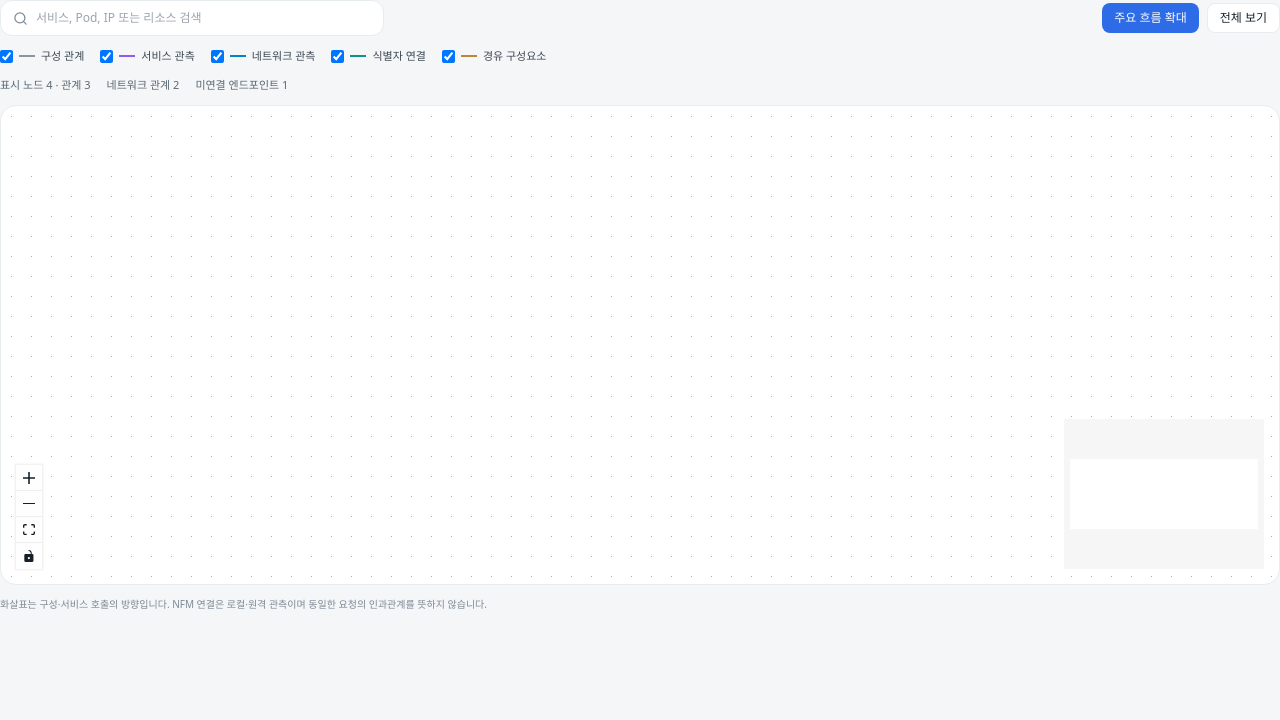
it: E2eGraphCanvas › does not render invalid metrics as measurements: NaN
In the search field: x=204, y=18 [36,9,371,27], type "checkout-flow"
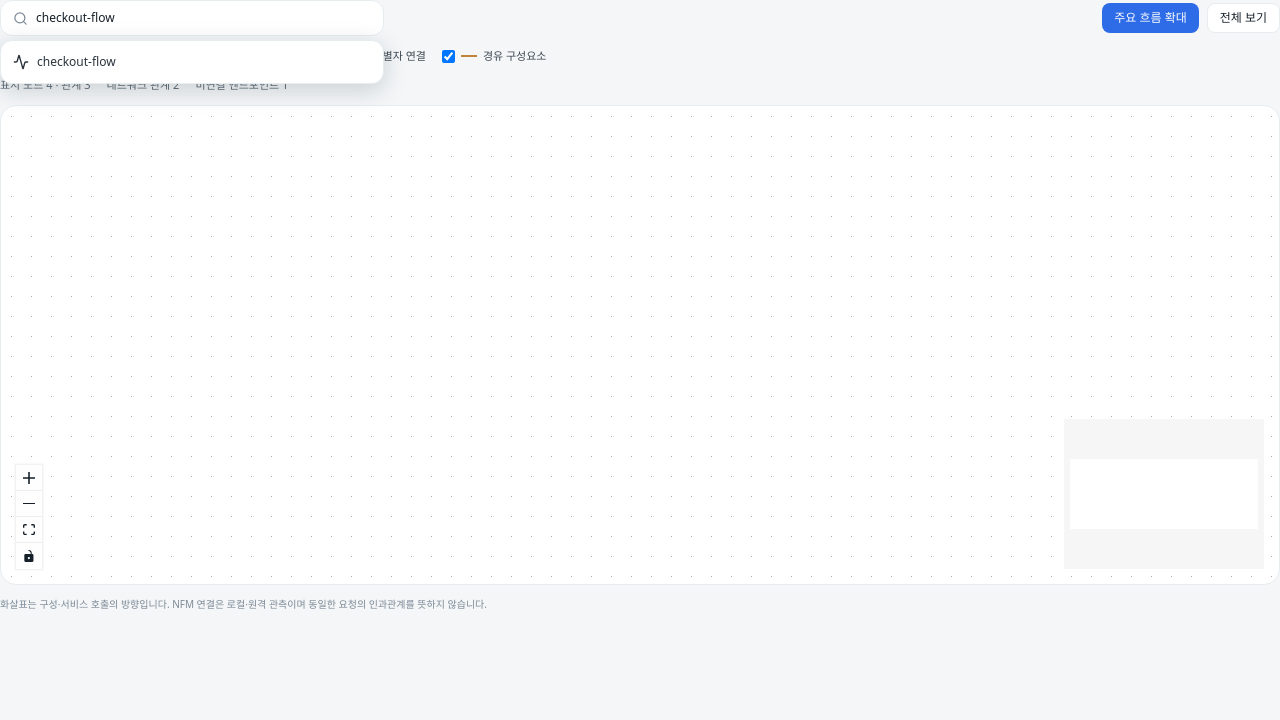
Click the button with aria-label "선택: checkout-flow": x=76, y=62 [5,45,379,79]
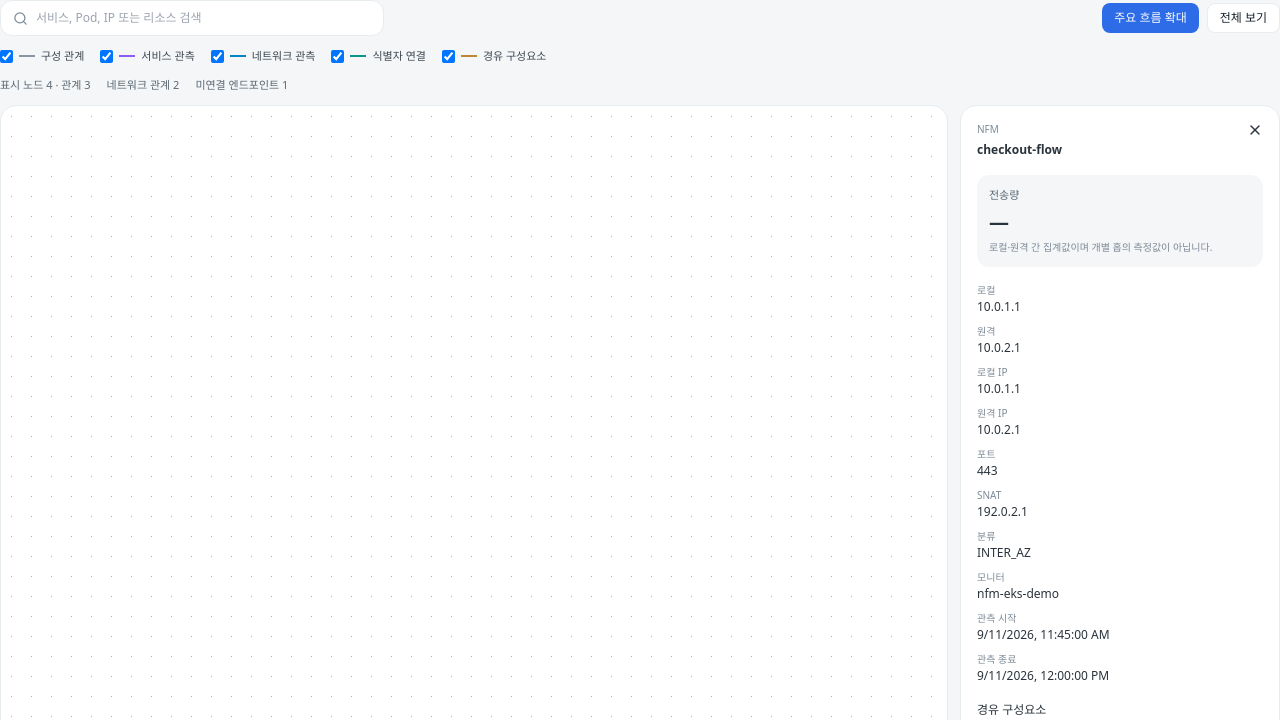
expect the text "—" is shown: met, box [989,208,1009,234]
